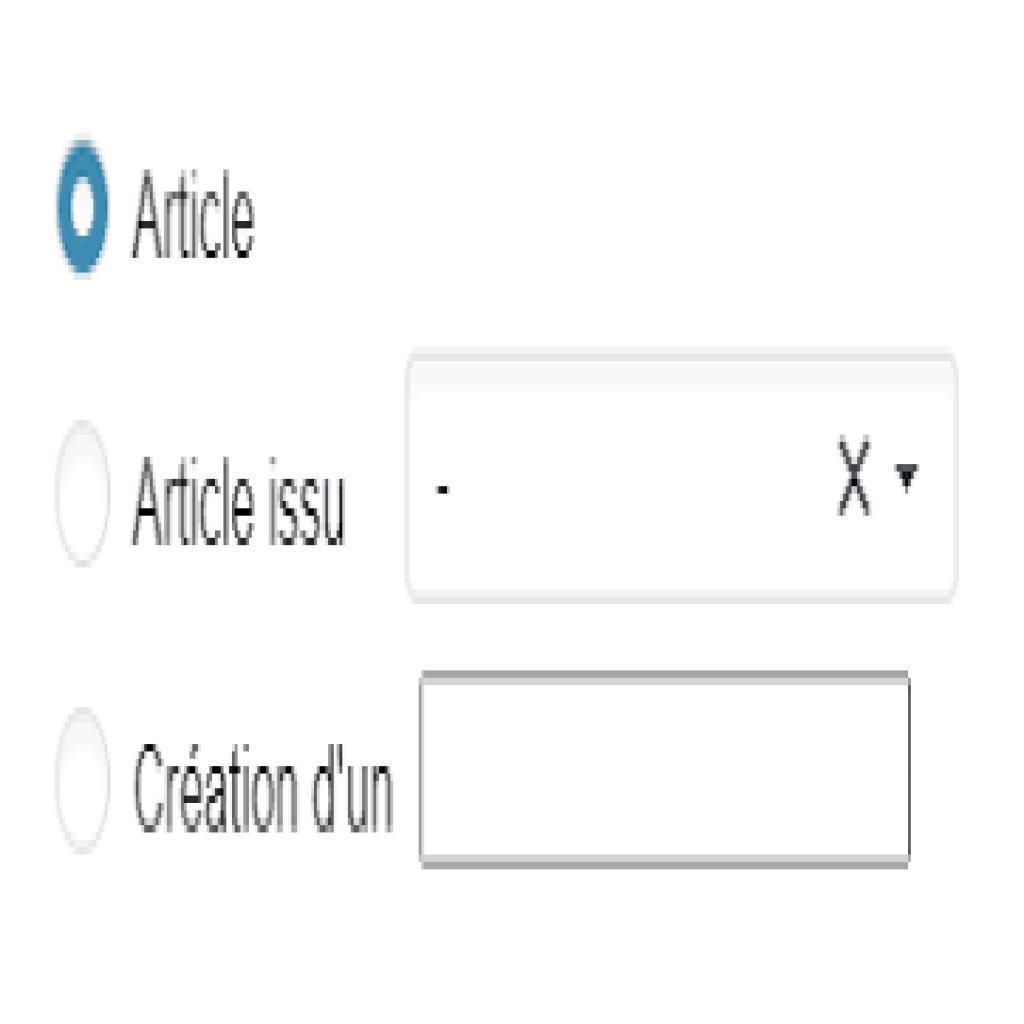dropdown: (403, 356, 960, 603)
input: (422, 673, 905, 862)
radio: (51, 416, 116, 568), (55, 138, 116, 280), (53, 709, 112, 852)
